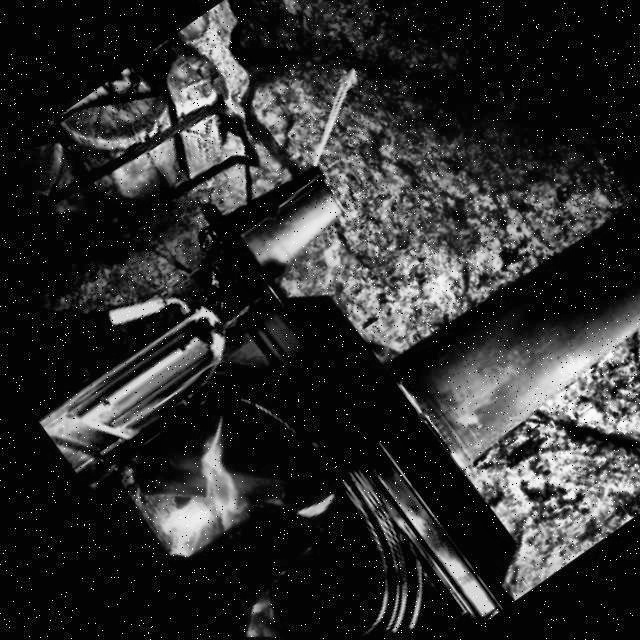Fire: (101, 399, 288, 569), (193, 576, 313, 638)
